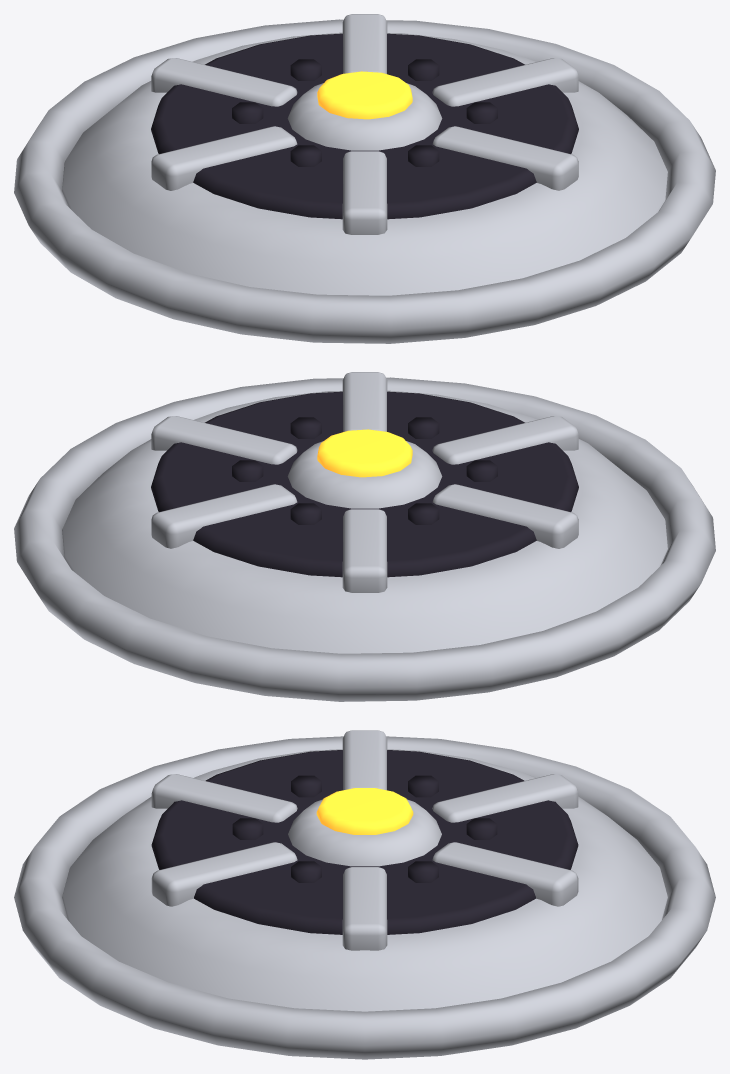
Rendered from hubcap_boomerang_cap.glb.
The picture shows the model from 3 angles, top to bottom: view 1: azimuth 30°, elevation 25°; view 2: azimuth 150°, elevation 25°; view 3: azimuth 270°, elevation 25°; orthographic projection.
Visible parts, largest first — view 1: Cap; view 2: Cap; view 3: Cap.
Boxes of the visible parts, x1=… form: Cap: x1=14, y1=14, x2=715, y2=343; Cap: x1=14, y1=372, x2=715, y2=701; Cap: x1=14, y1=730, x2=715, y2=1059.
Bounding box in the file's own units: 0.408 × 0.0715 × 0.408.
